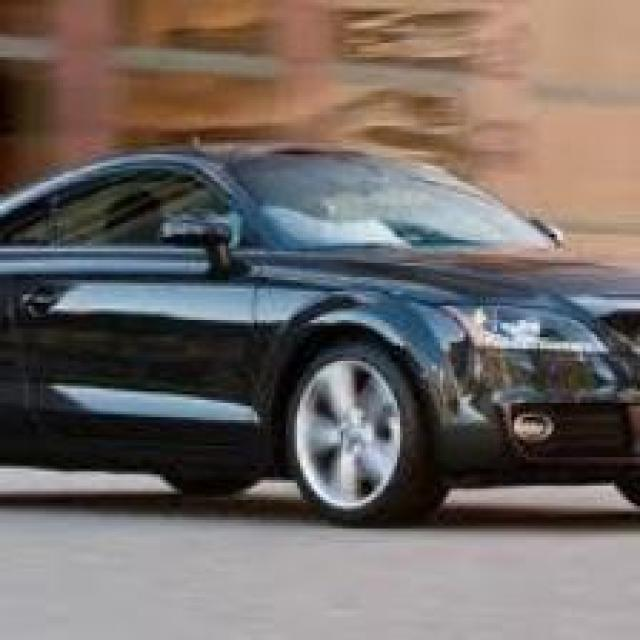damaged: (440, 338, 620, 426)
